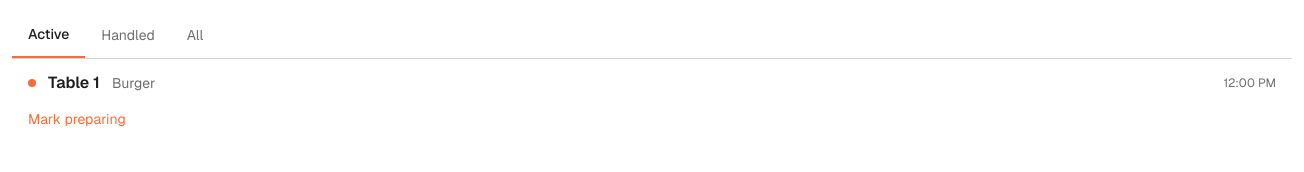
OrderFeed › Handled tab shows empty state when no completed orders
The width and height of the screenshot is (1304, 172).
Click the tab "Handled" at (128, 35), box [85,12,171,58]
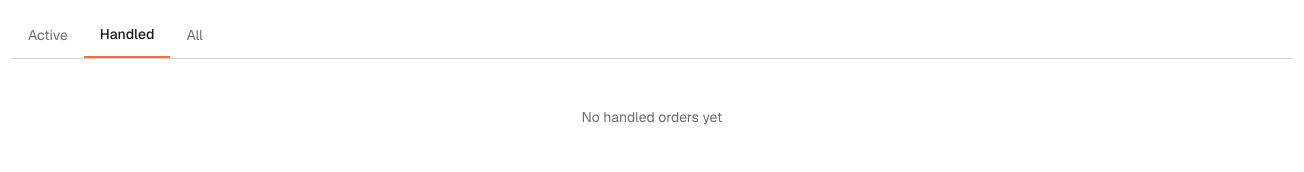
Expected: the text "No handled orders yet" is shown, [582,108,722,126]
